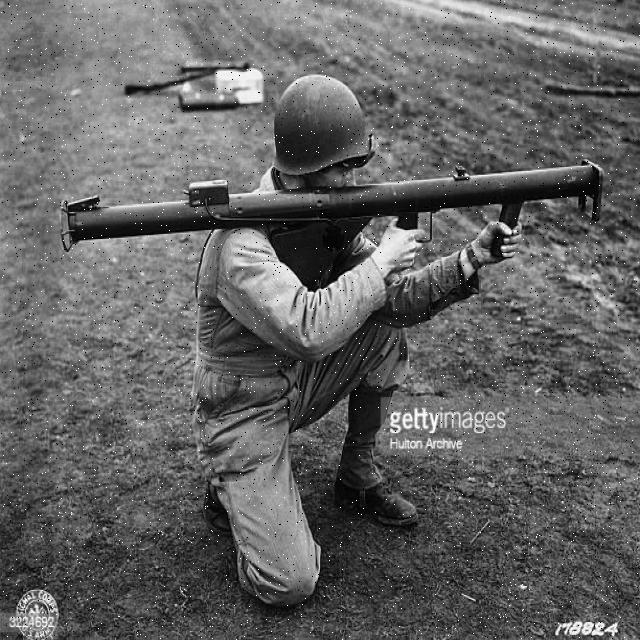bazooka: (54, 159, 610, 262)
